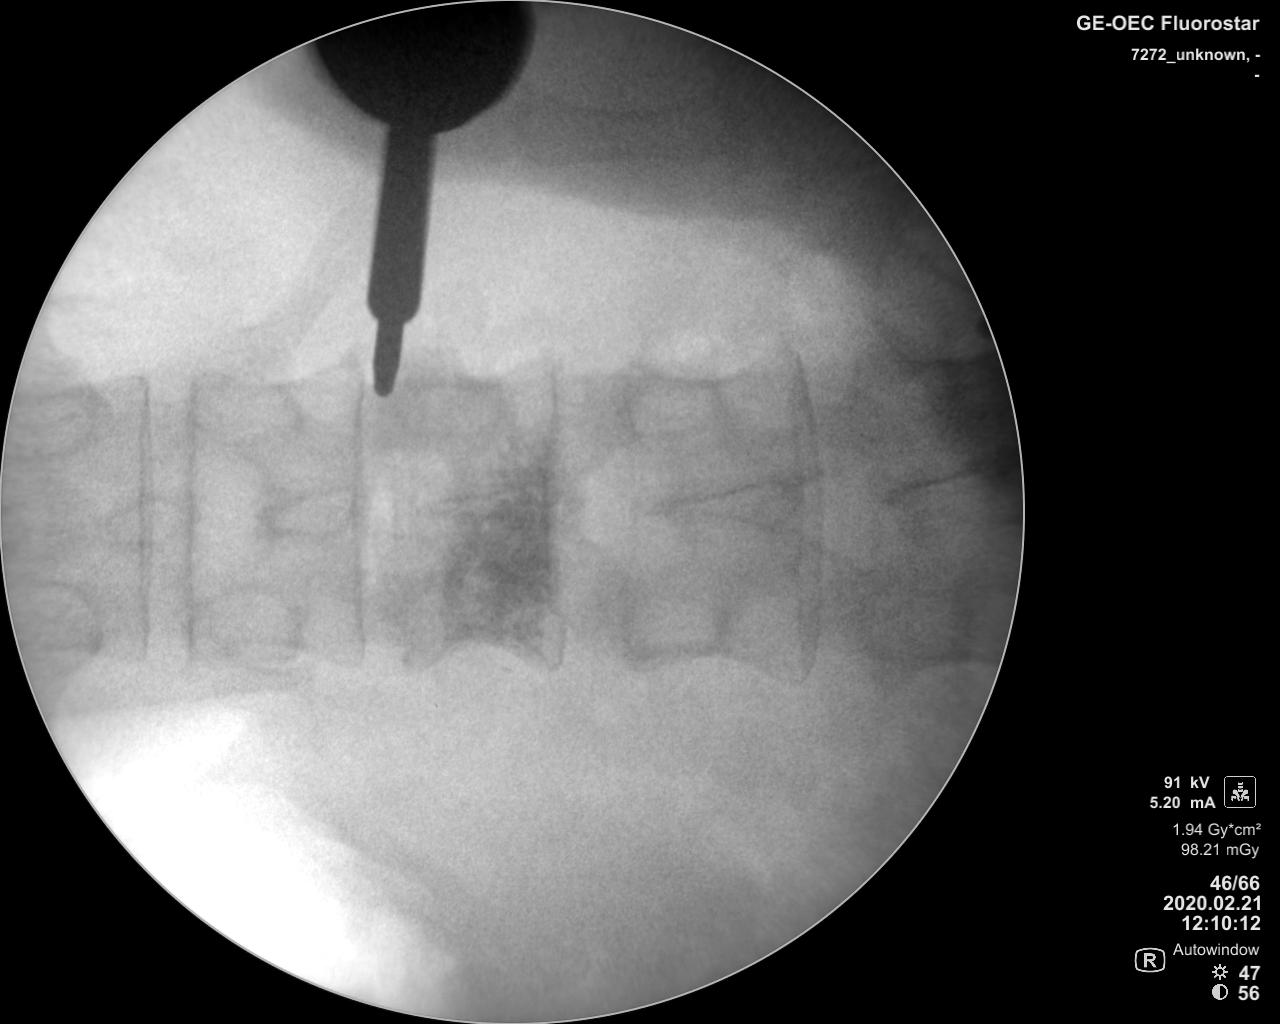eyes: (188, 362, 306, 453), (613, 363, 728, 448), (196, 584, 300, 674), (618, 588, 732, 669), (19, 579, 104, 672), (10, 385, 111, 459), (396, 377, 510, 440)
line: (782, 322, 829, 692), (330, 335, 373, 678), (529, 336, 567, 676), (176, 358, 210, 676), (124, 365, 160, 667)
nose: (645, 473, 832, 537), (396, 480, 552, 529), (248, 481, 362, 537), (82, 499, 187, 544)
